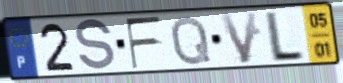2: (38, 22, 77, 74)
F: (123, 15, 164, 72)
L: (265, 9, 307, 64)
Q: (169, 14, 214, 68)
S: (73, 17, 117, 74)
V: (217, 10, 260, 66)
